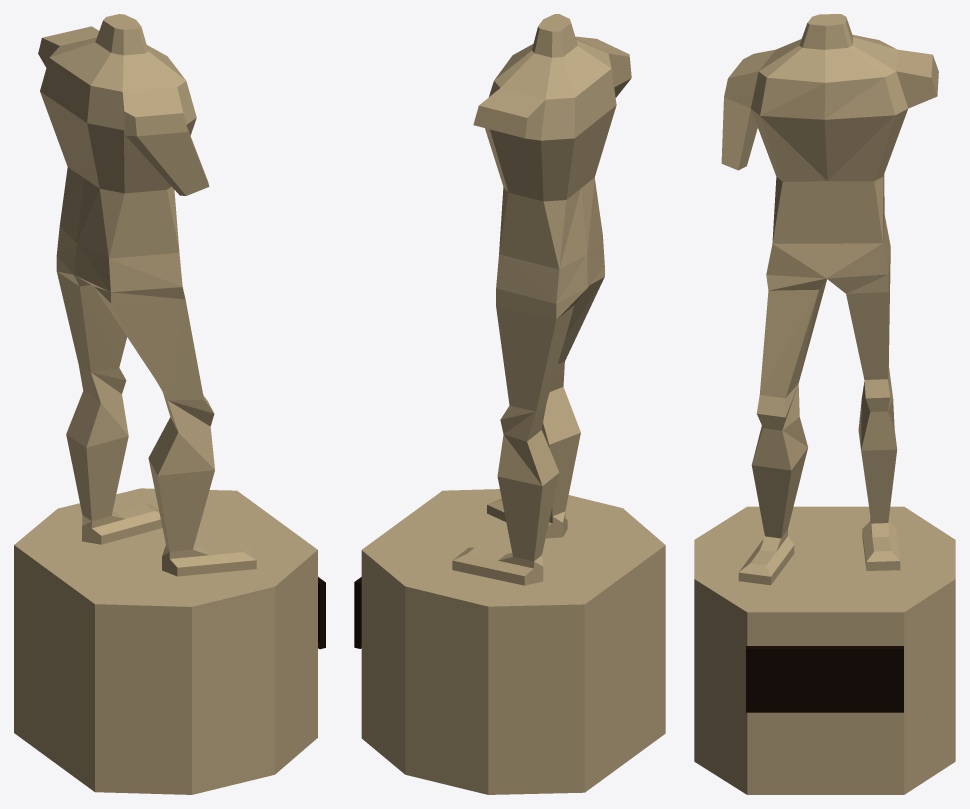
File: statue2.fbx
The picture shows the model from 3 angles, left to right: view 1: azimuth 30°, elevation 25°; view 2: azimuth 150°, elevation 25°; view 3: azimuth 270°, elevation 25°; orthographic projection. The views are drawn at different scales.
Visible parts, largest first — view 1: Object010, Box001; view 2: Object010, Box001; view 3: Object010, Box001.
Part boxes in pixels (bbox=[...]): Object010: bbox=[14, 14, 317, 794]; Box001: bbox=[318, 577, 325, 649]; Object010: bbox=[361, 14, 665, 794]; Box001: bbox=[354, 577, 361, 648]; Object010: bbox=[694, 14, 955, 794]; Box001: bbox=[746, 646, 903, 712].
Bounding box in the file's own units: 38.41 × 115 × 38.78.
